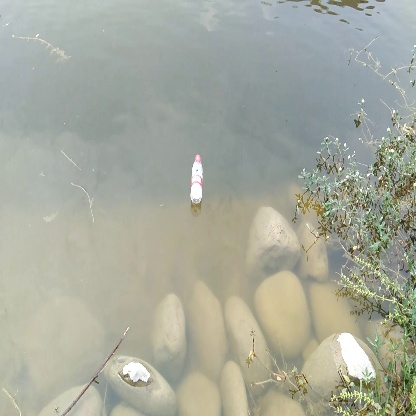bottle: (186, 150, 209, 205)
